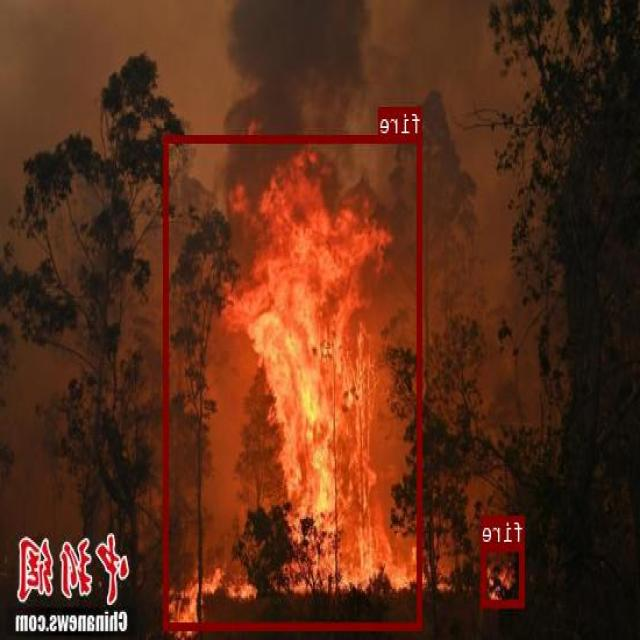fire: (165, 135, 423, 628), (482, 542, 525, 605)
